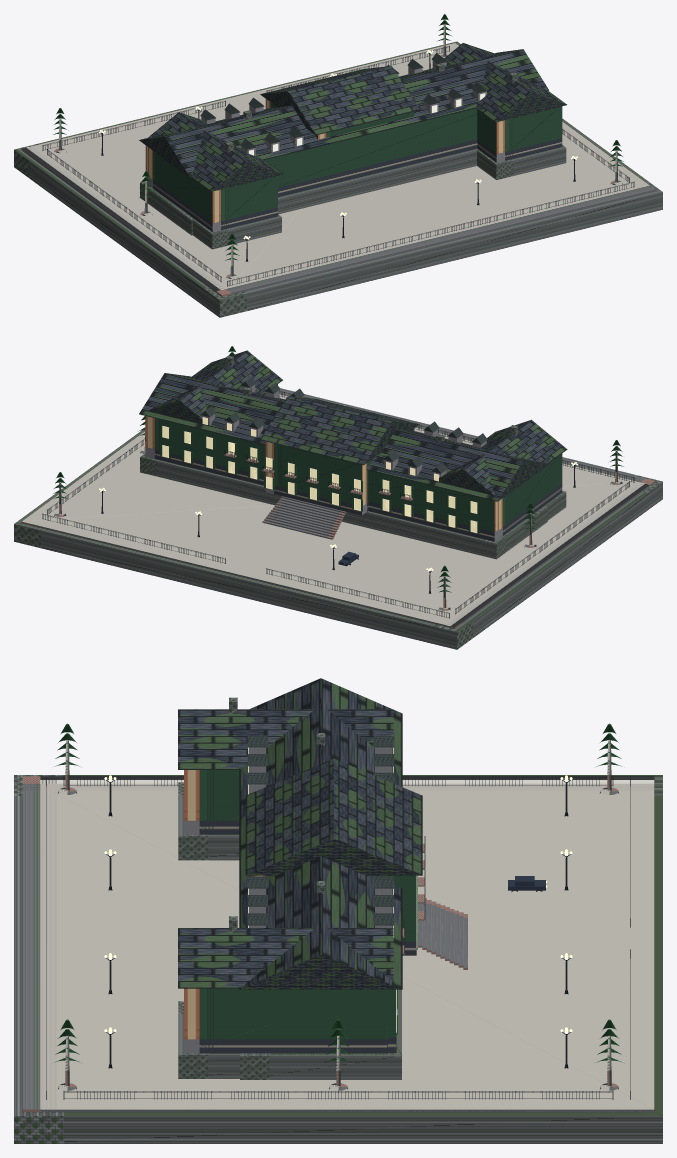
Rendered from ultra_lm_29_cuc_ban_do_dalat.glb.
3 renders of one model, top to bottom at view 1: azimuth 30°, elevation 25°; view 2: azimuth 150°, elevation 25°; view 3: azimuth 270°, elevation 25°, orthographic. The views are drawn at different scales.
Parts seen in each view (by area): view 1: CucBanDo1939_14Yersin_GranitePerron_And_WormBrick, CucBanDo1939_Normandy_Mansard_Slate_Roof_And_Dormers, CucBanDo1939_1m_Granite_Ashlar_Basement_8Pillars_And_Skirt, CucBanDo1939_74m_Neoclassical_Ochre_Facade_Walls, CucBanDo1939_3DWroughtIron_Balconies_And_Streetlamps, CucBanDo1939_Yersin_Pine_And_Courtyard_Trees; view 2: CucBanDo1939_14Yersin_GranitePerron_And_WormBrick, CucBanDo1939_Normandy_Mansard_Slate_Roof_And_Dormers, CucBanDo1939_1m_Granite_Ashlar_Basement_8Pillars_And_Skirt, CucBanDo1939_74m_Neoclassical_Ochre_Facade_Walls, CucBanDo1939_3DWroughtIron_Balconies_And_Streetlamps, CartographyHall_FrenchWindow_Blend085, CucBanDo1939_Wooden_Louver_Shutters, CucBanDo1939_Yersin_Pine_And_Courtyard_Trees; view 3: CucBanDo1939_14Yersin_GranitePerron_And_WormBrick, CucBanDo1939_Normandy_Mansard_Slate_Roof_And_Dormers, CucBanDo1939_1m_Granite_Ashlar_Basement_8Pillars_And_Skirt, CucBanDo1939_74m_Neoclassical_Ochre_Facade_Walls, CucBanDo1939_3DWroughtIron_Balconies_And_Streetlamps, CucBanDo1939_Yersin_Pine_And_Courtyard_Trees.
Boxes of the visible parts, box(x1,y1,x2,y2) form: CucBanDo1939_14Yersin_GranitePerron_And_WormBrick: box(21, 24, 655, 296); CucBanDo1939_Normandy_Mansard_Slate_Roof_And_Dormers: box(139, 43, 566, 191); CucBanDo1939_1m_Granite_Ashlar_Basement_8Pillars_And_Skirt: box(14, 41, 662, 317); CucBanDo1939_74m_Neoclassical_Ochre_Facade_Walls: box(145, 60, 562, 232); CucBanDo1939_3DWroughtIron_Balconies_And_Streetlamps: box(42, 46, 634, 286); CucBanDo1939_Yersin_Pine_And_Courtyard_Trees: box(53, 14, 623, 260); CucBanDo1939_14Yersin_GranitePerron_And_WormBrick: box(21, 389, 655, 628); CucBanDo1939_Normandy_Mansard_Slate_Roof_And_Dormers: box(139, 350, 567, 501); CucBanDo1939_1m_Granite_Ashlar_Basement_8Pillars_And_Skirt: box(14, 355, 662, 649); CucBanDo1939_74m_Neoclassical_Ochre_Facade_Walls: box(145, 384, 562, 541); CucBanDo1939_3DWroughtIron_Balconies_And_Streetlamps: box(42, 391, 634, 618); CartographyHall_FrenchWindow_Blend085: box(162, 417, 477, 532); CucBanDo1939_Wooden_Louver_Shutters: box(160, 425, 479, 533); CucBanDo1939_Yersin_Pine_And_Courtyard_Trees: box(53, 346, 623, 592); CucBanDo1939_14Yersin_GranitePerron_And_WormBrick: box(22, 739, 654, 1112); CucBanDo1939_Normandy_Mansard_Slate_Roof_And_Dormers: box(178, 678, 422, 989); CucBanDo1939_1m_Granite_Ashlar_Basement_8Pillars_And_Skirt: box(14, 697, 662, 1143); CucBanDo1939_74m_Neoclassical_Ochre_Facade_Walls: box(184, 747, 416, 1053); CucBanDo1939_3DWroughtIron_Balconies_And_Streetlamps: box(46, 777, 630, 1099); CucBanDo1939_Yersin_Pine_And_Courtyard_Trees: box(54, 723, 622, 1062).
Size of the model in its own units: 92 by 21.97 by 74.
10 materials, 4 textured.
